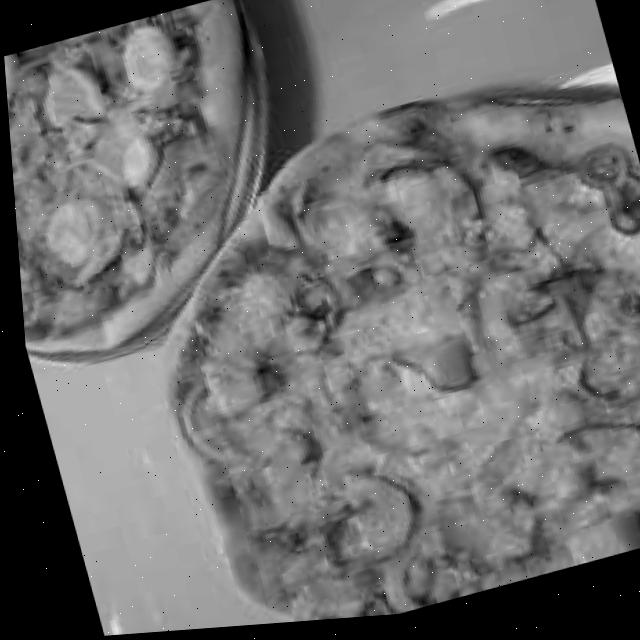汉堡快餐: (105, 58, 640, 634)
